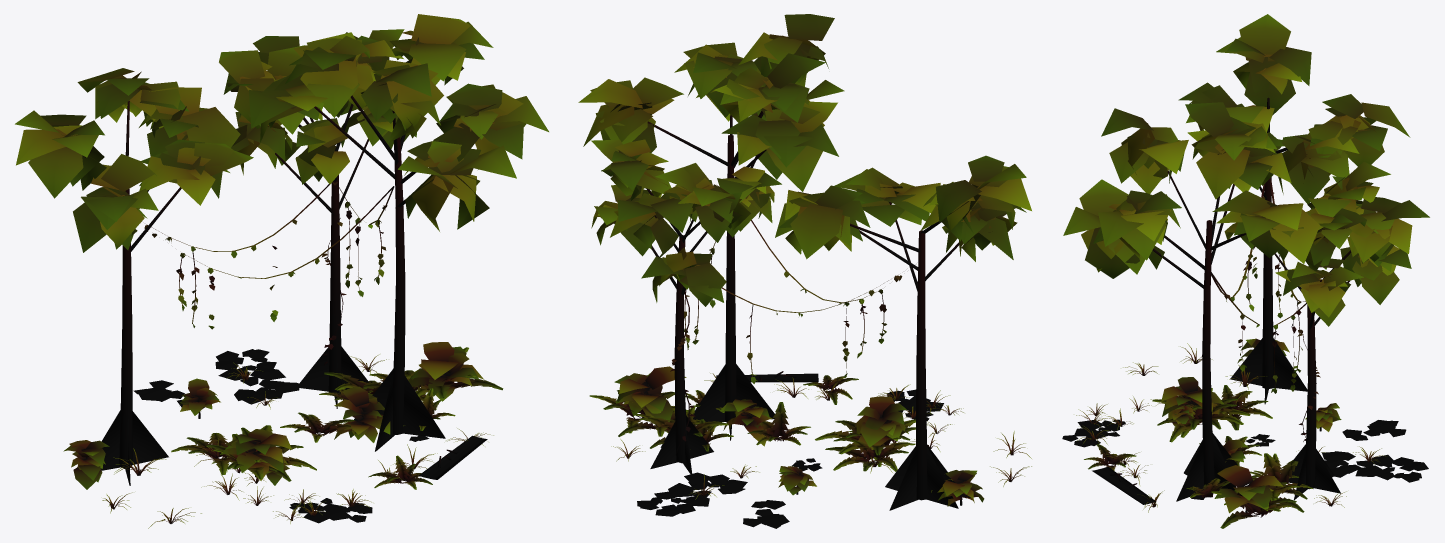
The model's file is patch_canopy.glb.
3 views of the same model, side by side, from view 1: azimuth 30°, elevation 25°; view 2: azimuth 150°, elevation 25°; view 3: azimuth 270°, elevation 25° (orthographic). The views are drawn at different scales.
Visible parts, largest first — view 1: patch_canopy; view 2: patch_canopy; view 3: patch_canopy.
Part boxes in pixels (<box>): patch_canopy: <box>15,14,548,528</box>; patch_canopy: <box>578,14,1031,528</box>; patch_canopy: <box>1062,14,1429,528</box>.
Size of the model in its own units: 15.05 by 12.58 by 11.59.
Materials: 1 (1 with a texture image).
